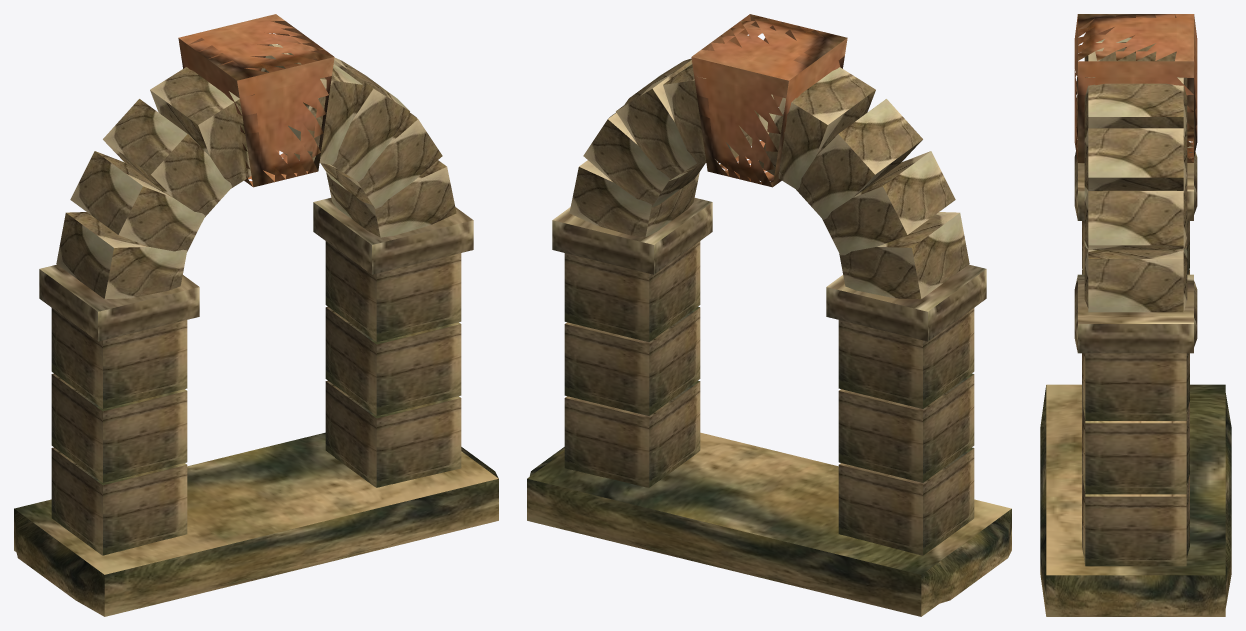
Rendered from the-keystone.glb.
3 renders of one model, left to right at view 1: azimuth 30°, elevation 25°; view 2: azimuth 150°, elevation 25°; view 3: azimuth 270°, elevation 25°, orthographic.
Parts seen in each view (by area): view 1: HeroRelicMonument; view 2: HeroRelicMonument; view 3: HeroRelicMonument.
Part boxes in pixels (x1=…): HeroRelicMonument: x1=14, y1=14, x2=498, y2=616; HeroRelicMonument: x1=527, y1=14, x2=1011, y2=616; HeroRelicMonument: x1=1040, y1=14, x2=1231, y2=616.
Bounding box in the file's own units: 1.96 × 2.2 × 0.7801.
1 material, 1 textured.
